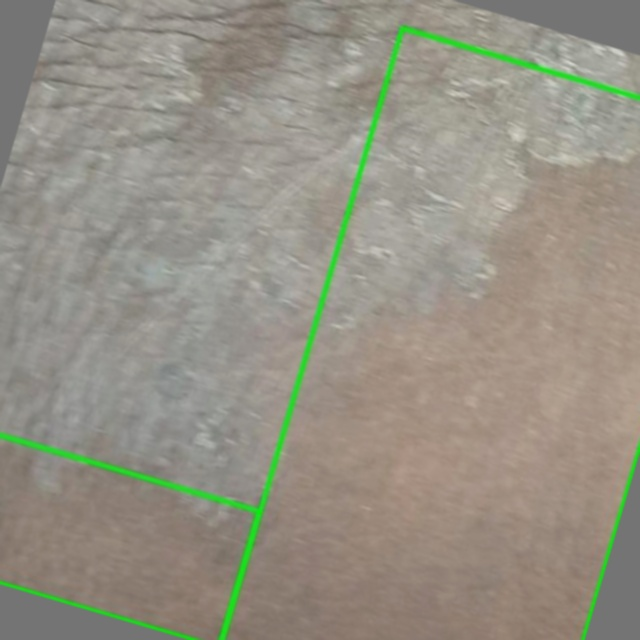Eczema: (222, 28, 639, 639), (0, 435, 260, 639)
